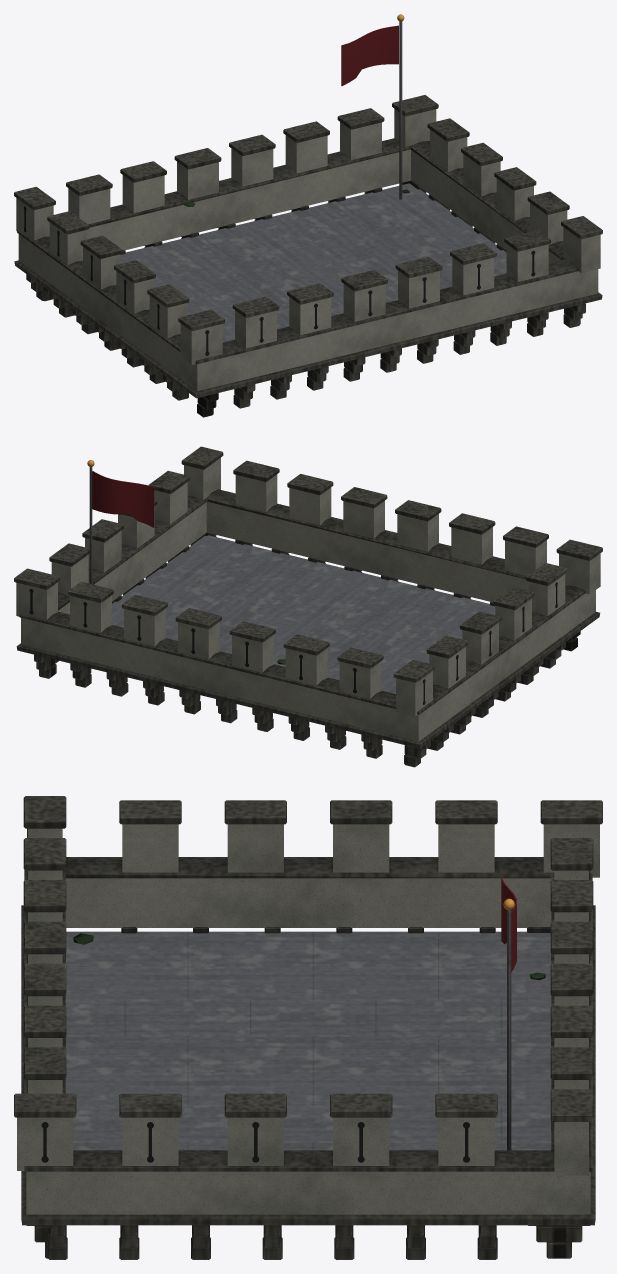
Rendered from BattlementRoof.fbx.
3 renders of one model, top to bottom at view 1: azimuth 30°, elevation 25°; view 2: azimuth 150°, elevation 25°; view 3: azimuth 270°, elevation 25°, orthographic. The views are drawn at different scales.
Visible parts, largest first — view 1: BattlementRoof_Stone, BattlementRoof_Main, BattlementRoof_Lead; view 2: BattlementRoof_Stone, BattlementRoof_Main, BattlementRoof_Lead; view 3: BattlementRoof_Lead, BattlementRoof_Stone, BattlementRoof_Main.
Boxes of the visible parts, x1=… form: BattlementRoof_Stone: x1=16, y1=109, x2=600, y2=391; BattlementRoof_Main: x1=14, y1=14, x2=602, y2=417; BattlementRoof_Lead: x1=120, y1=183, x2=506, y2=342; BattlementRoof_Stone: x1=16, y1=458, x2=600, y2=741; BattlementRoof_Main: x1=14, y1=446, x2=602, y2=767; BattlementRoof_Lead: x1=112, y1=535, x2=495, y2=693; BattlementRoof_Lead: x1=65, y1=931, x2=551, y2=1150; BattlementRoof_Stone: x1=17, y1=824, x2=599, y2=1214; BattlementRoof_Main: x1=14, y1=796, x2=602, y2=1259.
Bounding box in the file's own units: 1809 × 884 × 1409.
